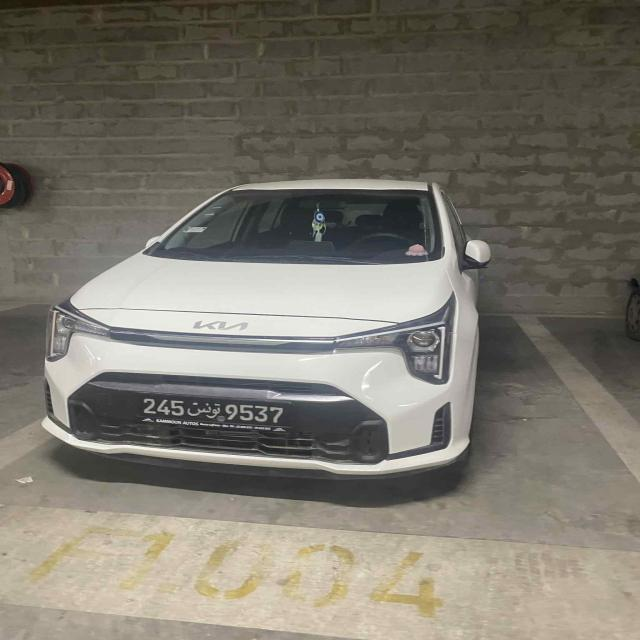licence plate: (140, 396, 285, 426)
